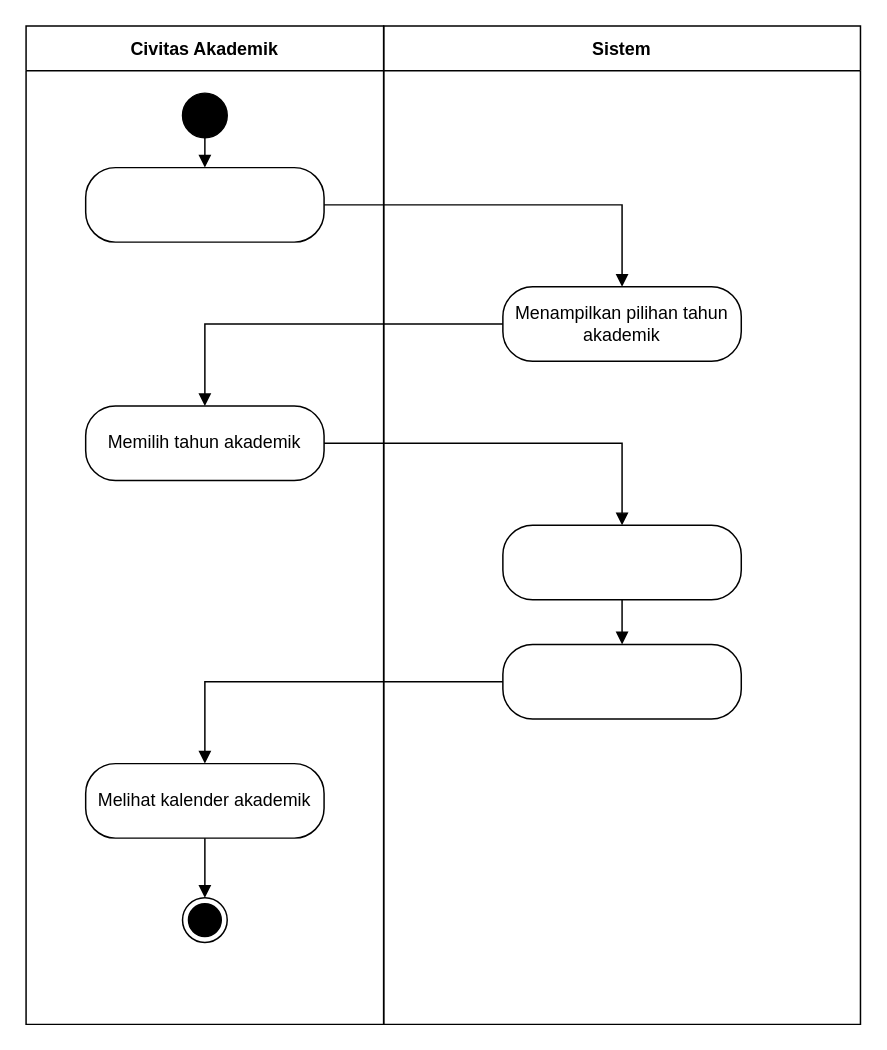
Image size: 887x1050. Some labels were removed from this diagram. Each missing label, with the centre of its shape:
"Memilih menu Kalender Akademik" belongs at (x=204, y=204).
"Menampilkan kalender akademik" belongs at (x=621, y=681).
"Mengambil data kalender akademik" belongs at (x=621, y=562).
